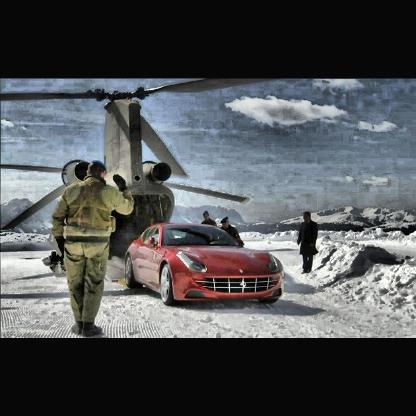Ferrari FF Coupe 2012: (125, 223, 287, 307)
